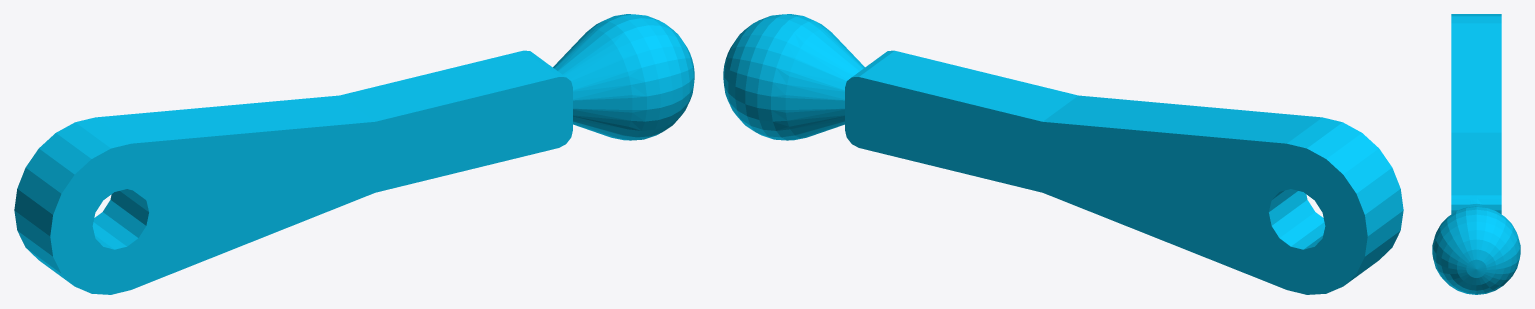
Rendered from test_leg43_visual_vis_1.dae.
3 renders of one model, left to right at view 1: azimuth 30°, elevation 25°; view 2: azimuth 150°, elevation 25°; view 3: azimuth 270°, elevation 25°, orthographic. The views are drawn at different scales.
Parts seen in each view (by area): view 1: Node_000002AD2EA27340; view 2: Node_000002AD2EA27340; view 3: Node_000002AD2EA27340.
Part boxes in pixels (box(x1,y1,x2,y2)): Node_000002AD2EA27340: box(14, 14, 694, 294); Node_000002AD2EA27340: box(723, 14, 1403, 294); Node_000002AD2EA27340: box(1432, 14, 1520, 294).
Bounding box in the file's own units: 0.2314 × 0.0495 × 0.0387.
